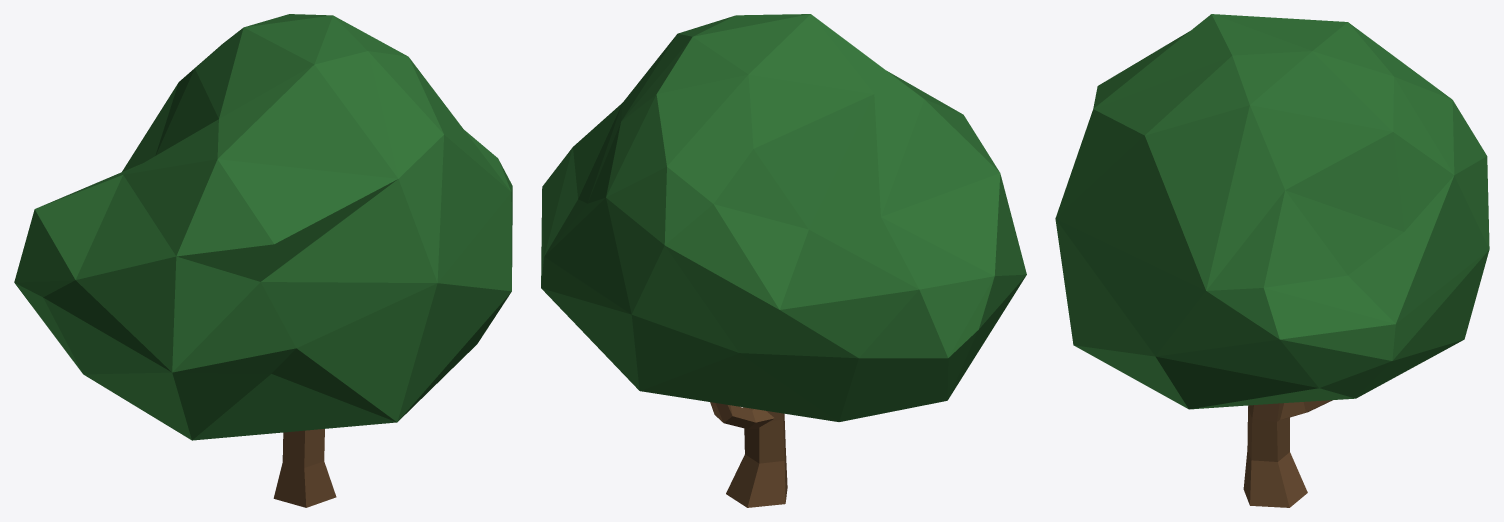
The model's file is bush-medium.glb.
The picture shows the model from 3 angles, left to right: view 1: azimuth 30°, elevation 25°; view 2: azimuth 150°, elevation 25°; view 3: azimuth 270°, elevation 25°; orthographic projection. The views are drawn at different scales.
Parts seen in each view (by area): view 1: bush-medium; view 2: bush-medium; view 3: bush-medium.
Part boxes in pixels (x1,y1,x2,y2): bush-medium: (14,14,512,507); bush-medium: (541,14,1026,507); bush-medium: (1055,14,1489,507).
Bounding box in the file's own units: 1.55 × 1.5 × 1.25.
